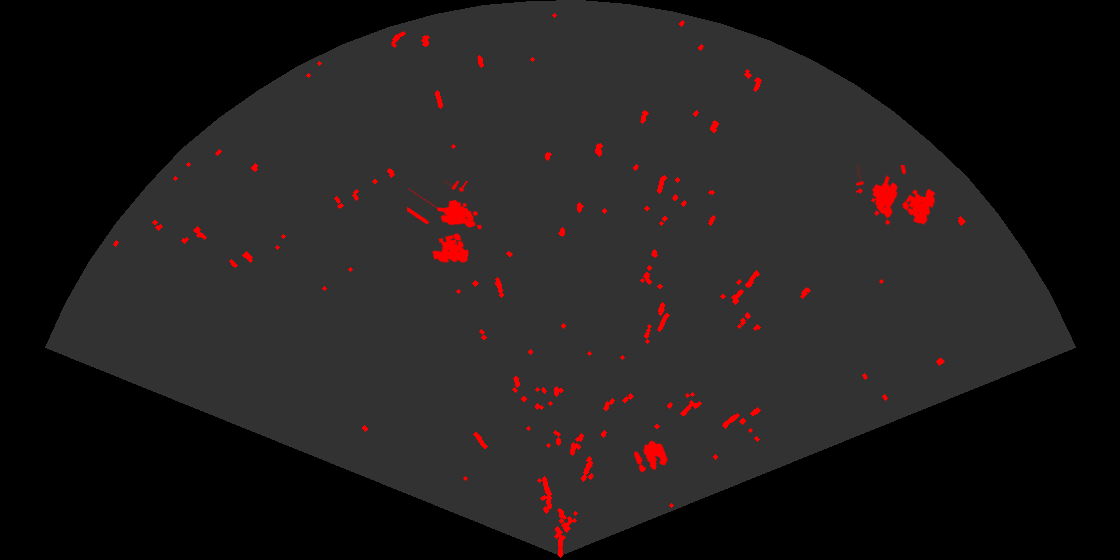ball: (632, 439, 669, 474)
cage: (407, 181, 483, 265), (856, 165, 937, 227)
